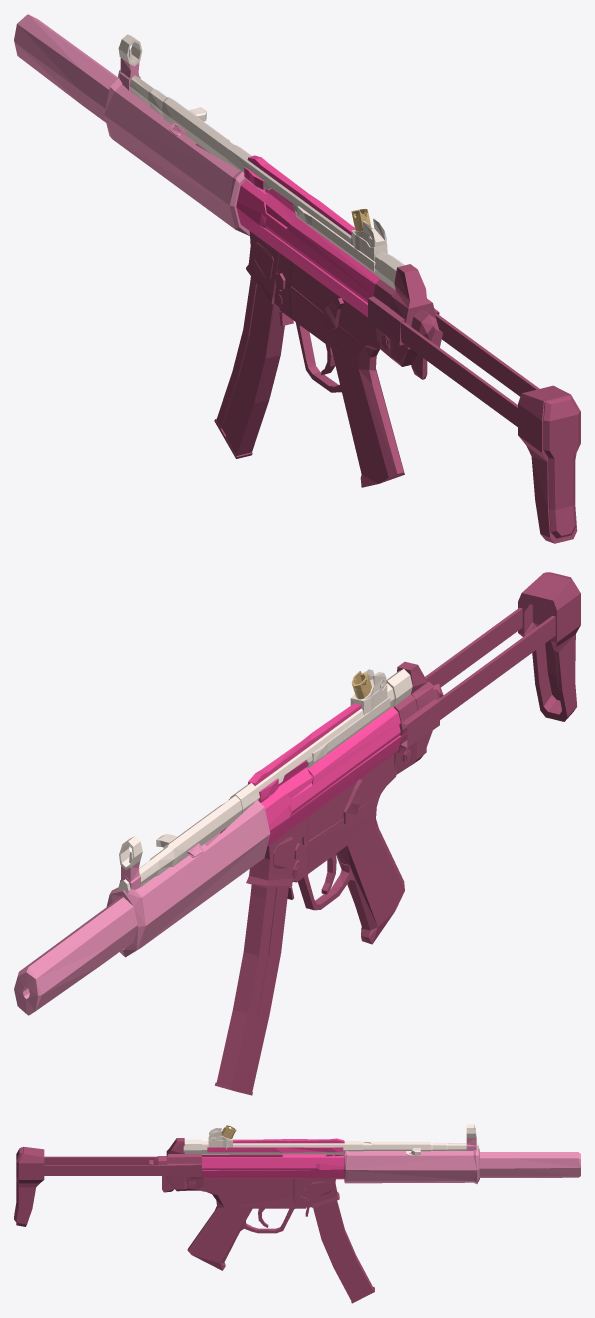
File: SMG_MP5.obj
The picture shows the model from 3 angles, top to bottom: view 1: azimuth 30°, elevation 25°; view 2: azimuth 150°, elevation 25°; view 3: azimuth 270°, elevation 25°; orthographic projection. The views are drawn at different scales.
Parts seen in each view (by area): view 1: Mag, Body, Accent, Grip, Panel; view 2: Mag, Body, Accent, Panel, Grip; view 3: Mag, Body, Accent, Panel, Grip.
Part boxes in pixels (x1,y1,x2,y2): Mag: (214,231,539,487); Body: (14,14,265,235); Accent: (236,155,379,317); Grip: (518,385,580,543); Panel: (118,34,404,290); Mag: (215,607,555,1095); Body: (14,800,270,1015); Accent: (220,703,407,846); Panel: (118,669,412,893); Grip: (518,572,580,721); Mag: (44,1138,374,1303); Body: (344,1138,580,1183); Accent: (202,1138,344,1179); Panel: (183,1124,478,1155); Grip: (14,1146,44,1226).
Bounding box in the file's own units: 0.1018 × 0.7588 × 2.2.
